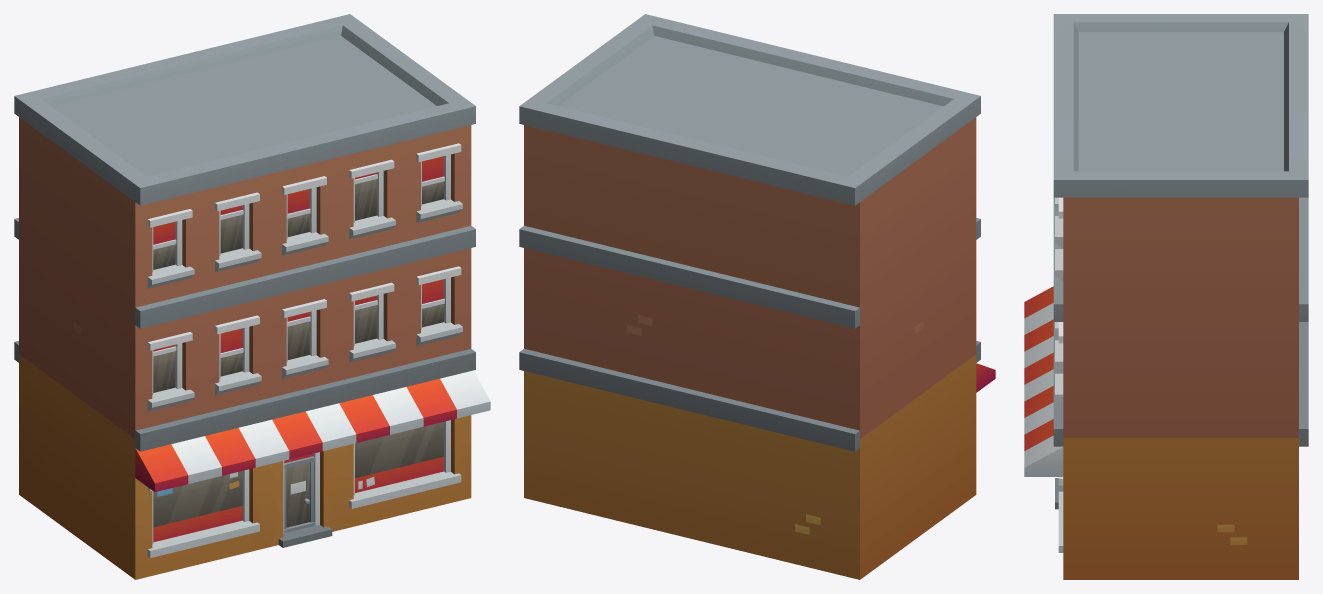
Rendered from shop_e.glb.
3 renders of one model, left to right at view 1: azimuth 30°, elevation 25°; view 2: azimuth 150°, elevation 25°; view 3: azimuth 270°, elevation 25°, orthographic.
Parts seen in each view (by area): view 1: building_E_withoutBase; view 2: building_E_withoutBase; view 3: building_E_withoutBase.
Boxes of the visible parts, box(x1,y1,x2,y2) form: building_E_withoutBase: box(14, 14, 490, 579); building_E_withoutBase: box(519, 14, 995, 579); building_E_withoutBase: box(1024, 14, 1308, 579).
Size of the model in its own units: 2.01 by 2.25 by 1.45.
1 material, 1 textured.
